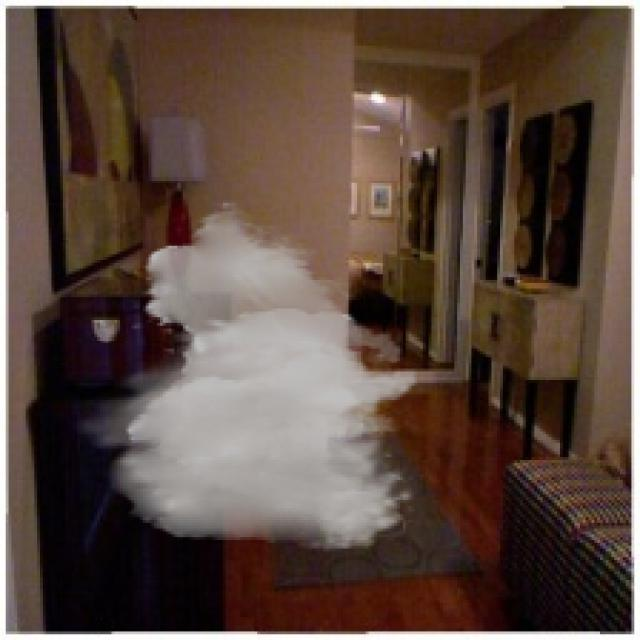smoke: (69, 200, 420, 551)
